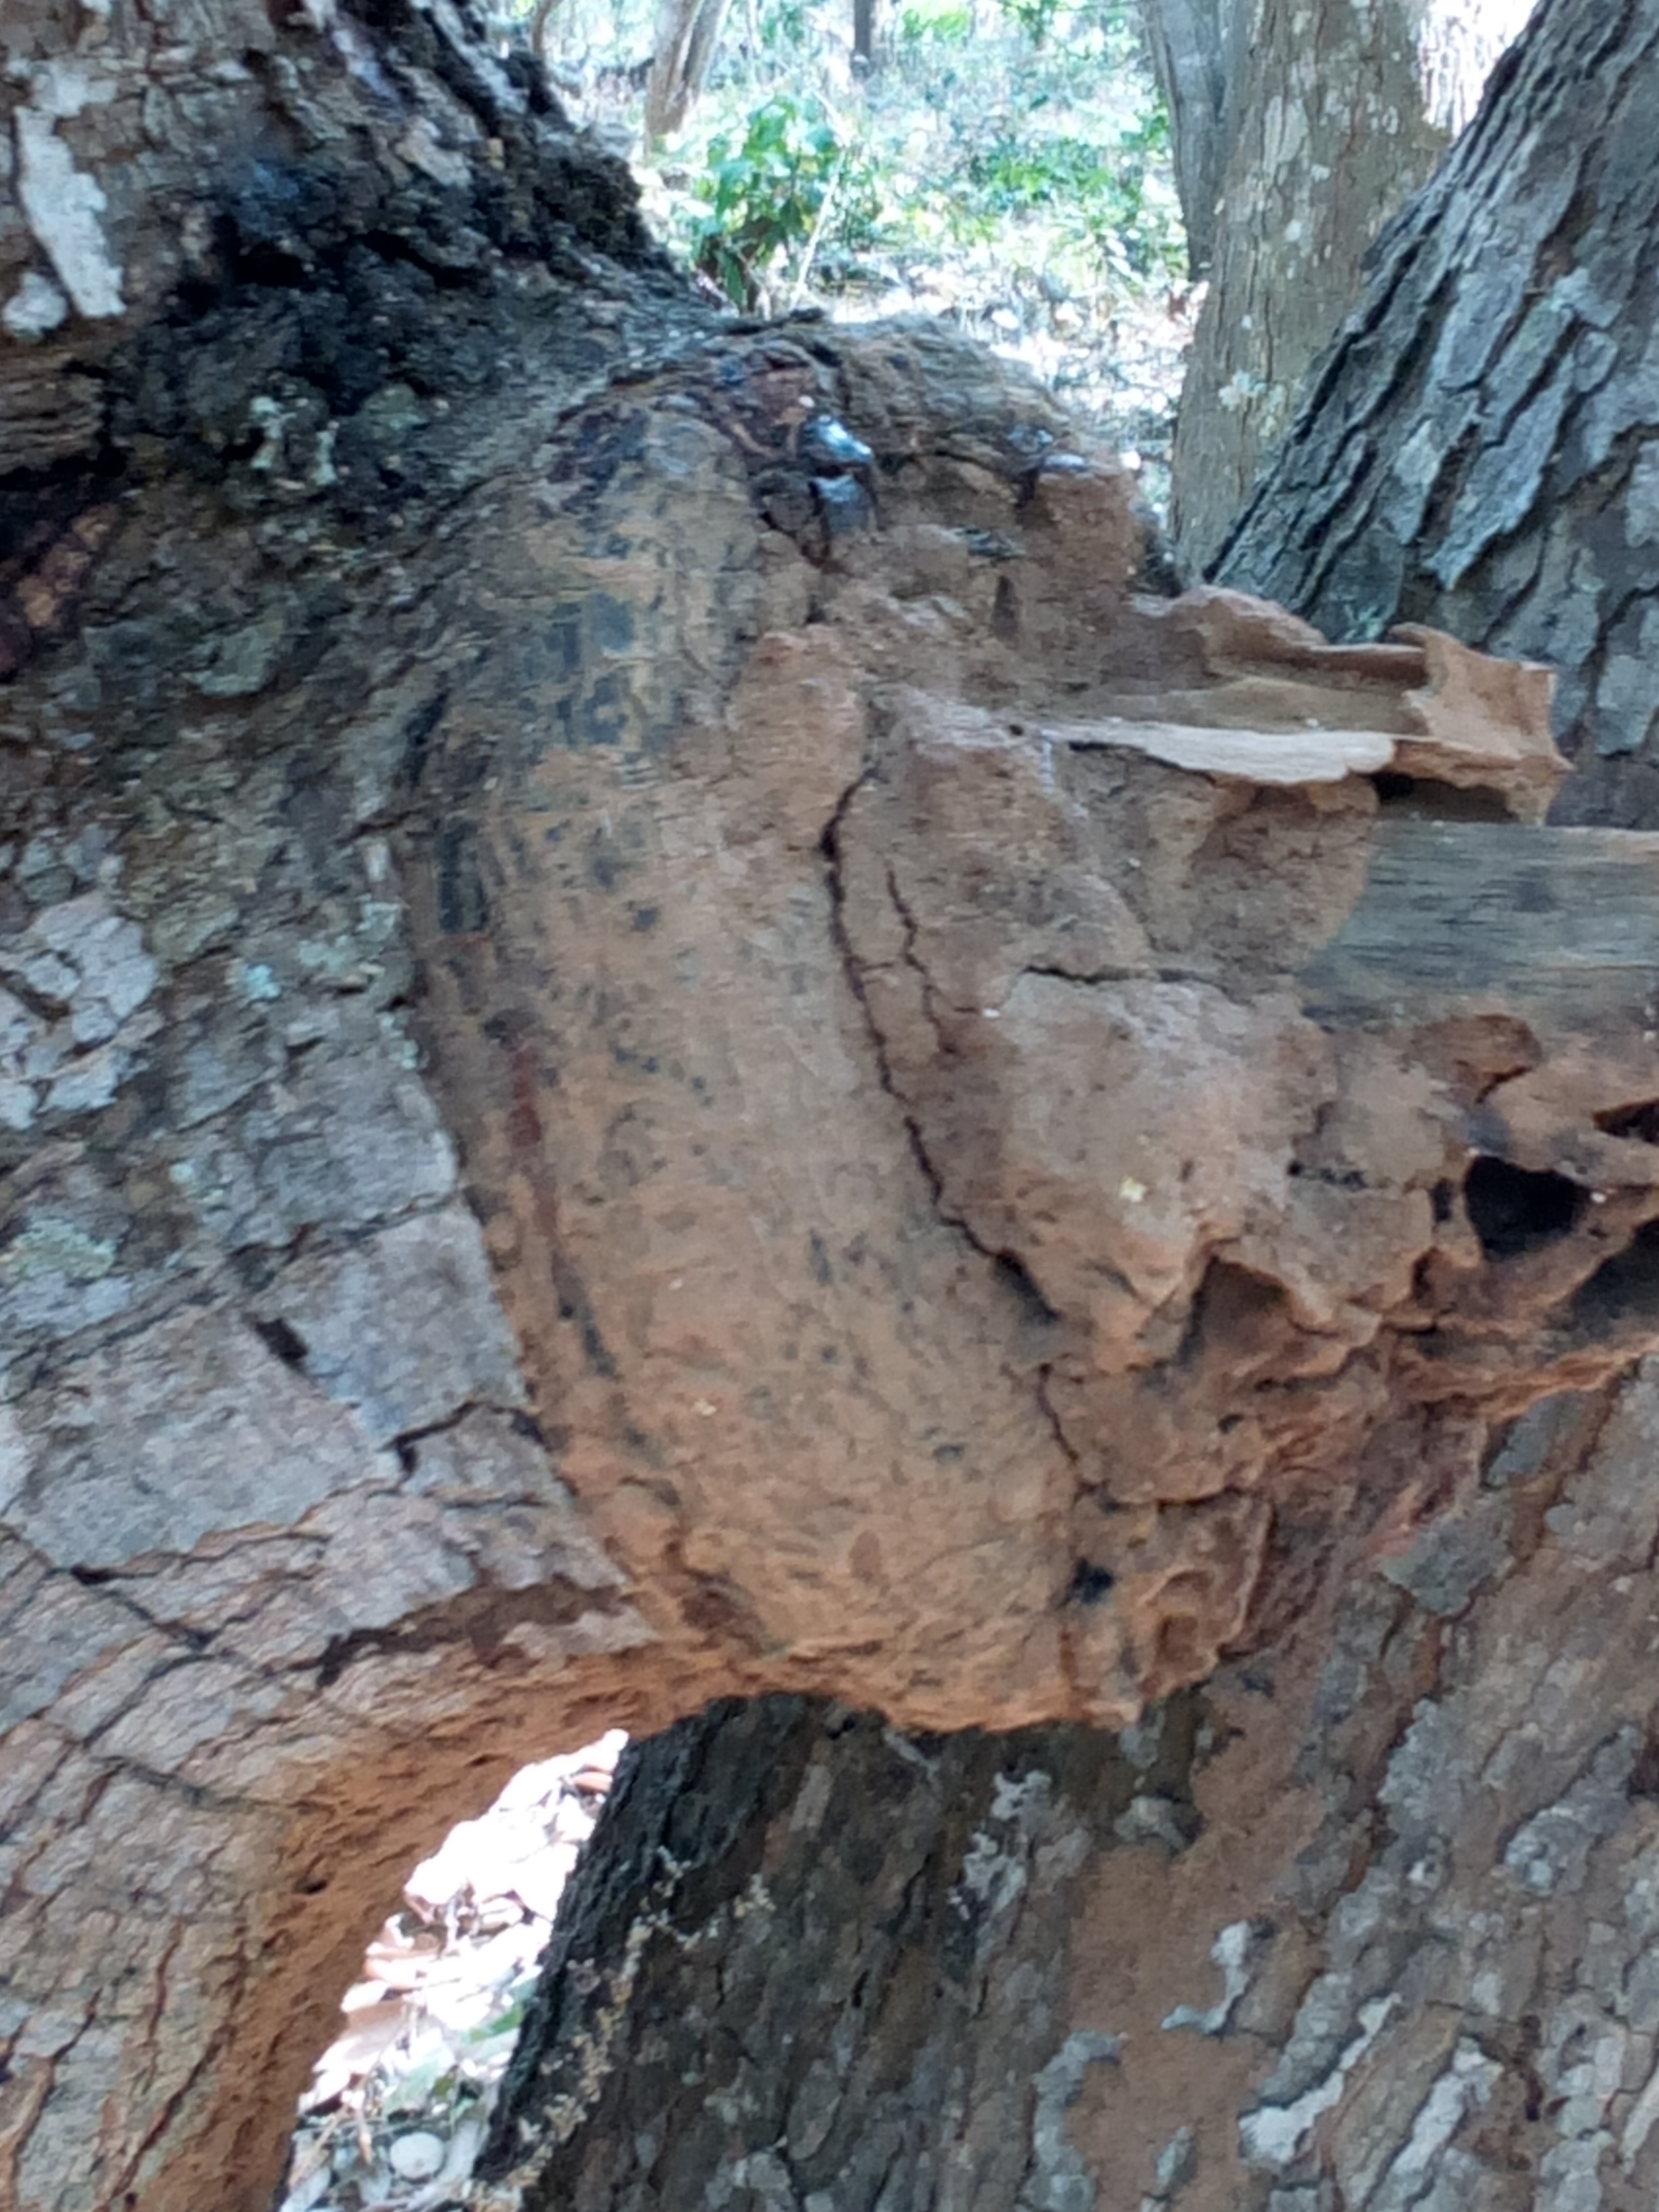Termites: (460, 446, 1659, 1730)
